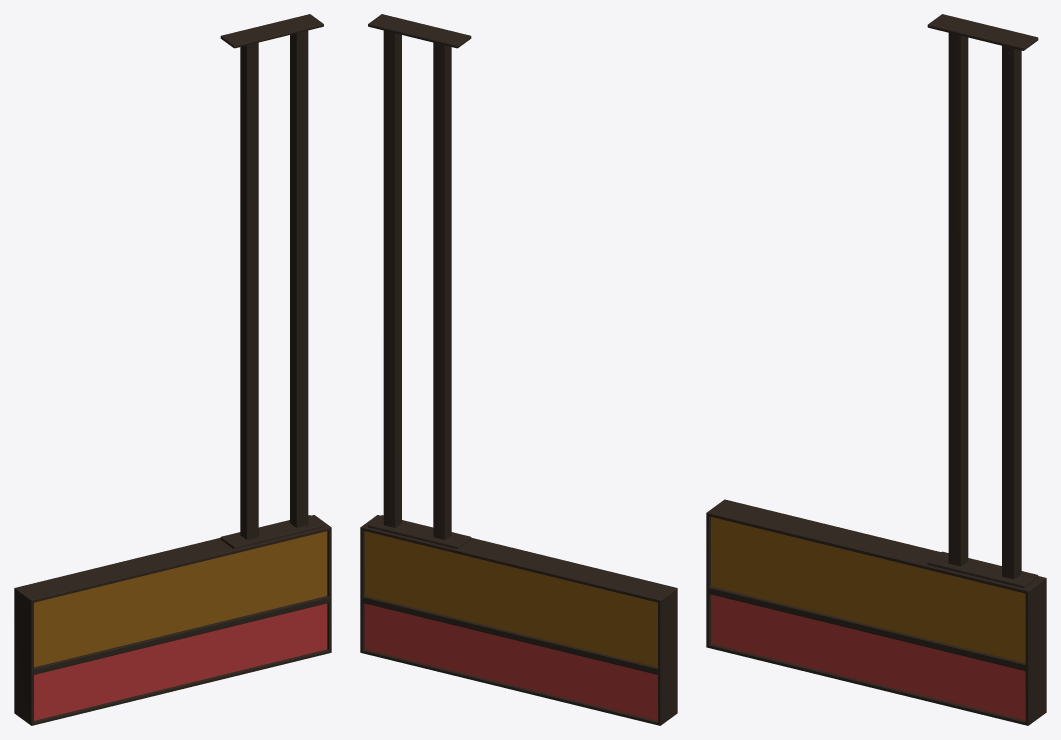
Rendered from Sign_01.FBX.
3 views of the same model, side by side, from view 1: azimuth 30°, elevation 25°; view 2: azimuth 150°, elevation 25°; view 3: azimuth 330°, elevation 25° (orthographic). The views are drawn at different scales.
Parts seen in each view (by area): view 1: Sign_01; view 2: Sign_01; view 3: Sign_01.
Part boxes in pixels (x1=…): Sign_01: x1=14, y1=14, x2=331, y2=725; Sign_01: x1=360, y1=14, x2=677, y2=725; Sign_01: x1=706, y1=14, x2=1046, y2=725.
Size of the model in its own units: 100 by 200 by 10.
